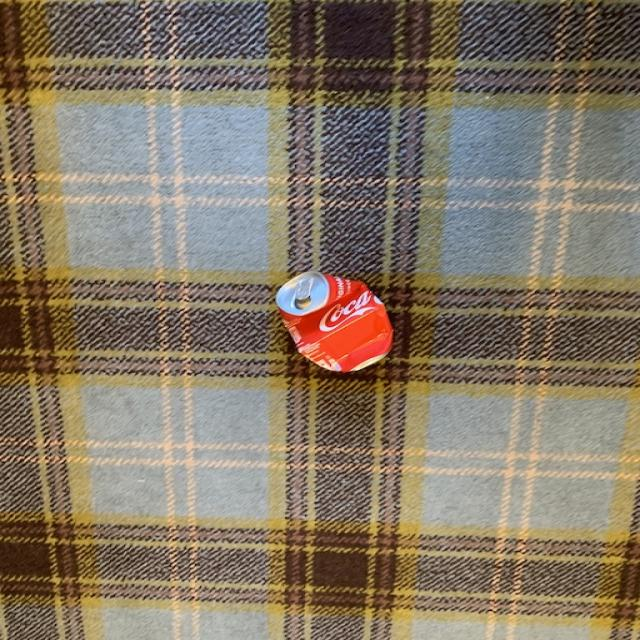litter: (271, 271, 405, 379)
